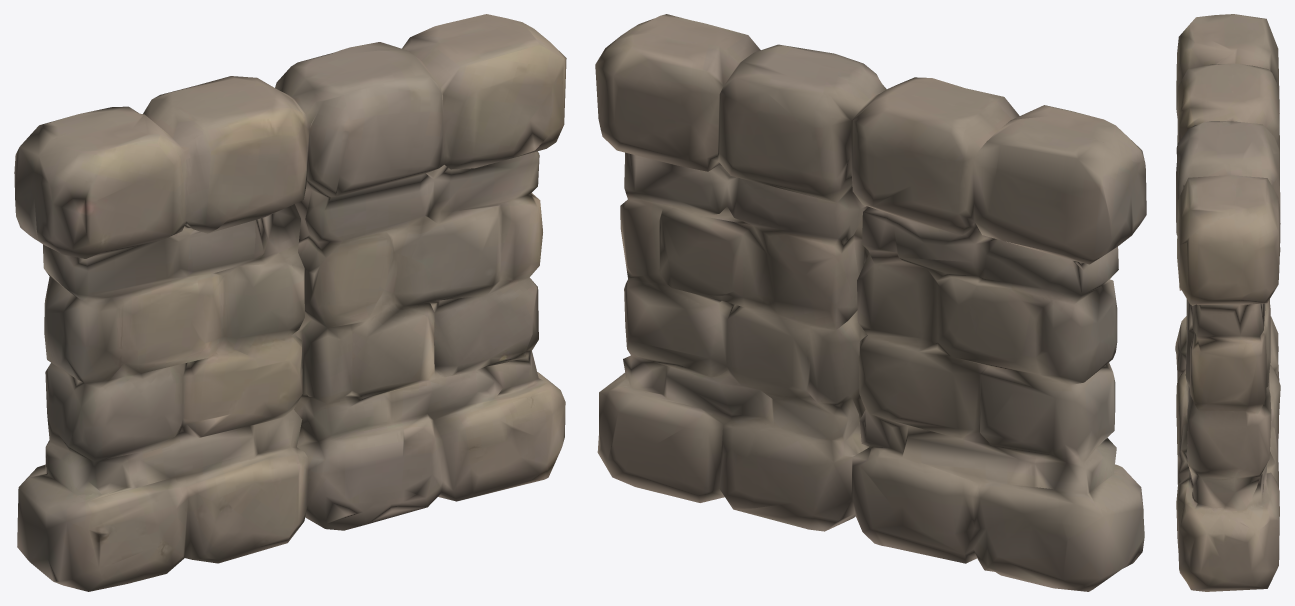
Rendered from cr_wall-Cz3NWb8F.glb.
3 views of the same model, side by side, from view 1: azimuth 30°, elevation 25°; view 2: azimuth 150°, elevation 25°; view 3: azimuth 270°, elevation 25° (orthographic). The views are drawn at different scales.
Visible parts, largest first — view 1: tripo_node_13f4158d-9ed6-4b30-9940-b4e54aaedc02; view 2: tripo_node_13f4158d-9ed6-4b30-9940-b4e54aaedc02; view 3: tripo_node_13f4158d-9ed6-4b30-9940-b4e54aaedc02.
Boxes of the visible parts, bbox=[...] form: tripo_node_13f4158d-9ed6-4b30-9940-b4e54aaedc02: bbox=[14, 14, 566, 591]; tripo_node_13f4158d-9ed6-4b30-9940-b4e54aaedc02: bbox=[595, 14, 1146, 591]; tripo_node_13f4158d-9ed6-4b30-9940-b4e54aaedc02: bbox=[1175, 14, 1280, 591].
Bounding box in the file's own units: 4.9 × 4 × 1.
Materials: 1 (1 with a texture image).
